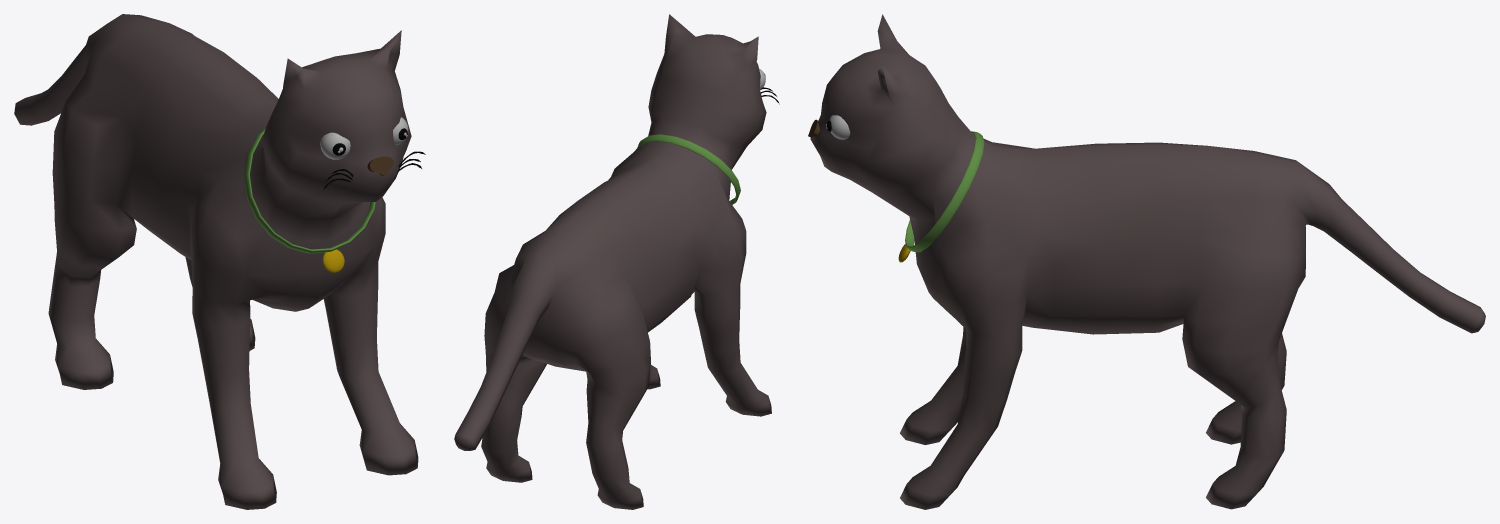
The model's file is chat.fbx.
3 views of the same model, side by side, from view 1: azimuth 30°, elevation 25°; view 2: azimuth 150°, elevation 25°; view 3: azimuth 270°, elevation 25° (orthographic). The views are drawn at different scales.
Visible parts, largest first — view 1: pTorus2; view 2: pTorus2; view 3: pTorus2.
Part boxes in pixels (x1,y1,x2,y2): pTorus2: (14,14,425,509); pTorus2: (454,14,779,509); pTorus2: (808,14,1485,509).
Bounding box in the file's own units: 8.93 × 20.05 × 28.9.
